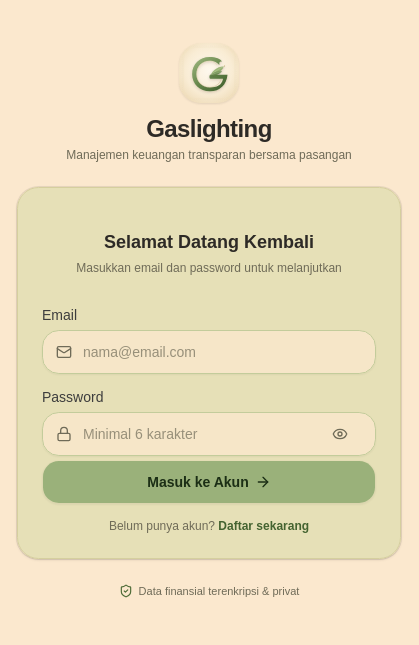
Scenario: LoginPage › displays error alert when login fails
The width and height of the screenshot is (419, 645).
Type "wrong@example.com" into the field labelled "Email" at [209, 352], box x1=42 y1=330 x2=376 y2=374
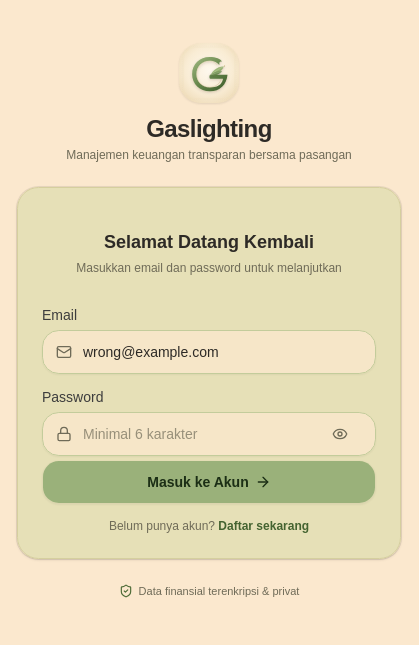
Type "wrongpass" into the password field labelled "Password" at [209, 434], box x1=42 y1=412 x2=376 y2=456
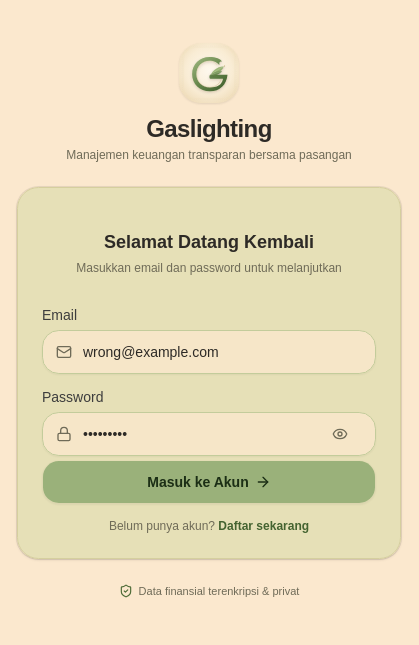
Click the button "Masuk ke Akun" at [209, 482], box x1=42 y1=460 x2=376 y2=504
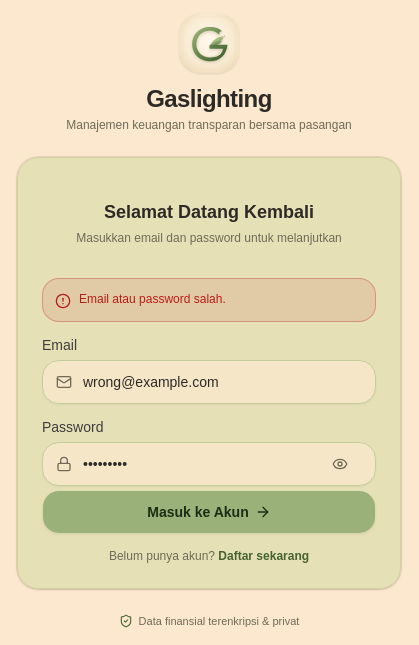
Expected: the message reads "Email atau password salah.", x1=79 y1=292 x2=226 y2=306
